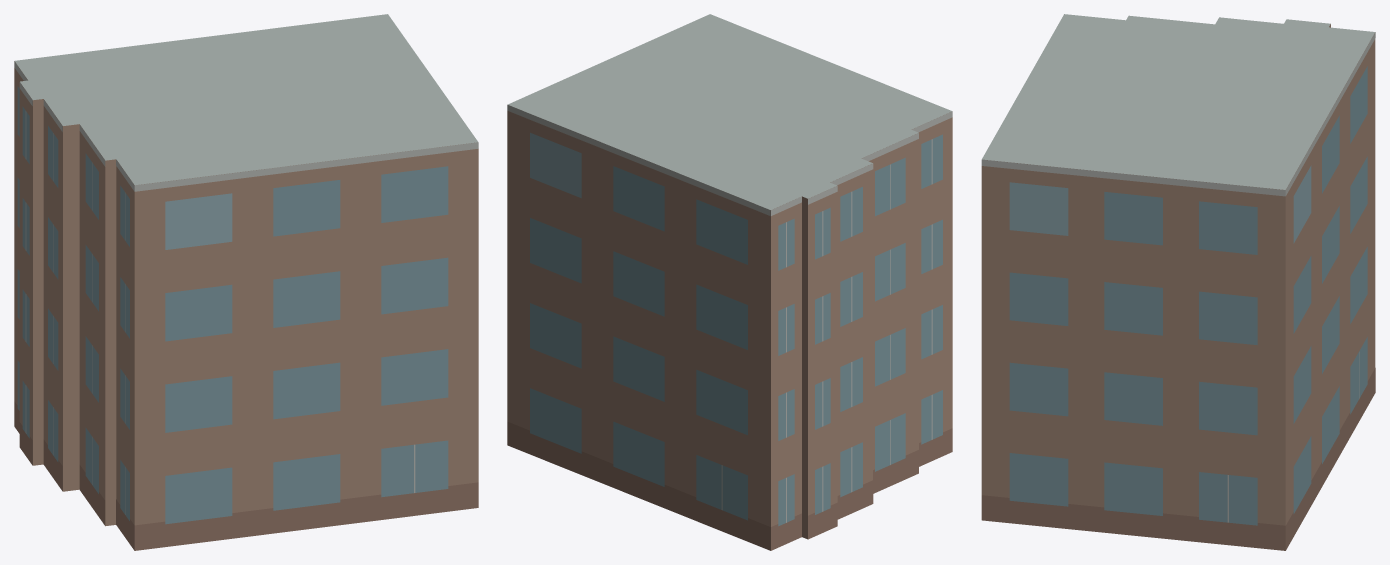
Rendered from survey-upis-32915075.glb.
3 renders of one model, left to right at view 1: azimuth 30°, elevation 25°; view 2: azimuth 150°, elevation 25°; view 3: azimuth 270°, elevation 25°, orthographic. The views are drawn at different scales.
Parts seen in each view (by area): view 1: survey-upis-32915075.tmp; view 2: survey-upis-32915075.tmp; view 3: survey-upis-32915075.tmp.
Part boxes in pixels (box(x1,y1,x2,y2)): survey-upis-32915075.tmp: box(14, 14, 478, 550); survey-upis-32915075.tmp: box(507, 14, 952, 550); survey-upis-32915075.tmp: box(981, 14, 1375, 550).
Bounding box in the file's own units: 14.34 × 13.7 × 13.56.
